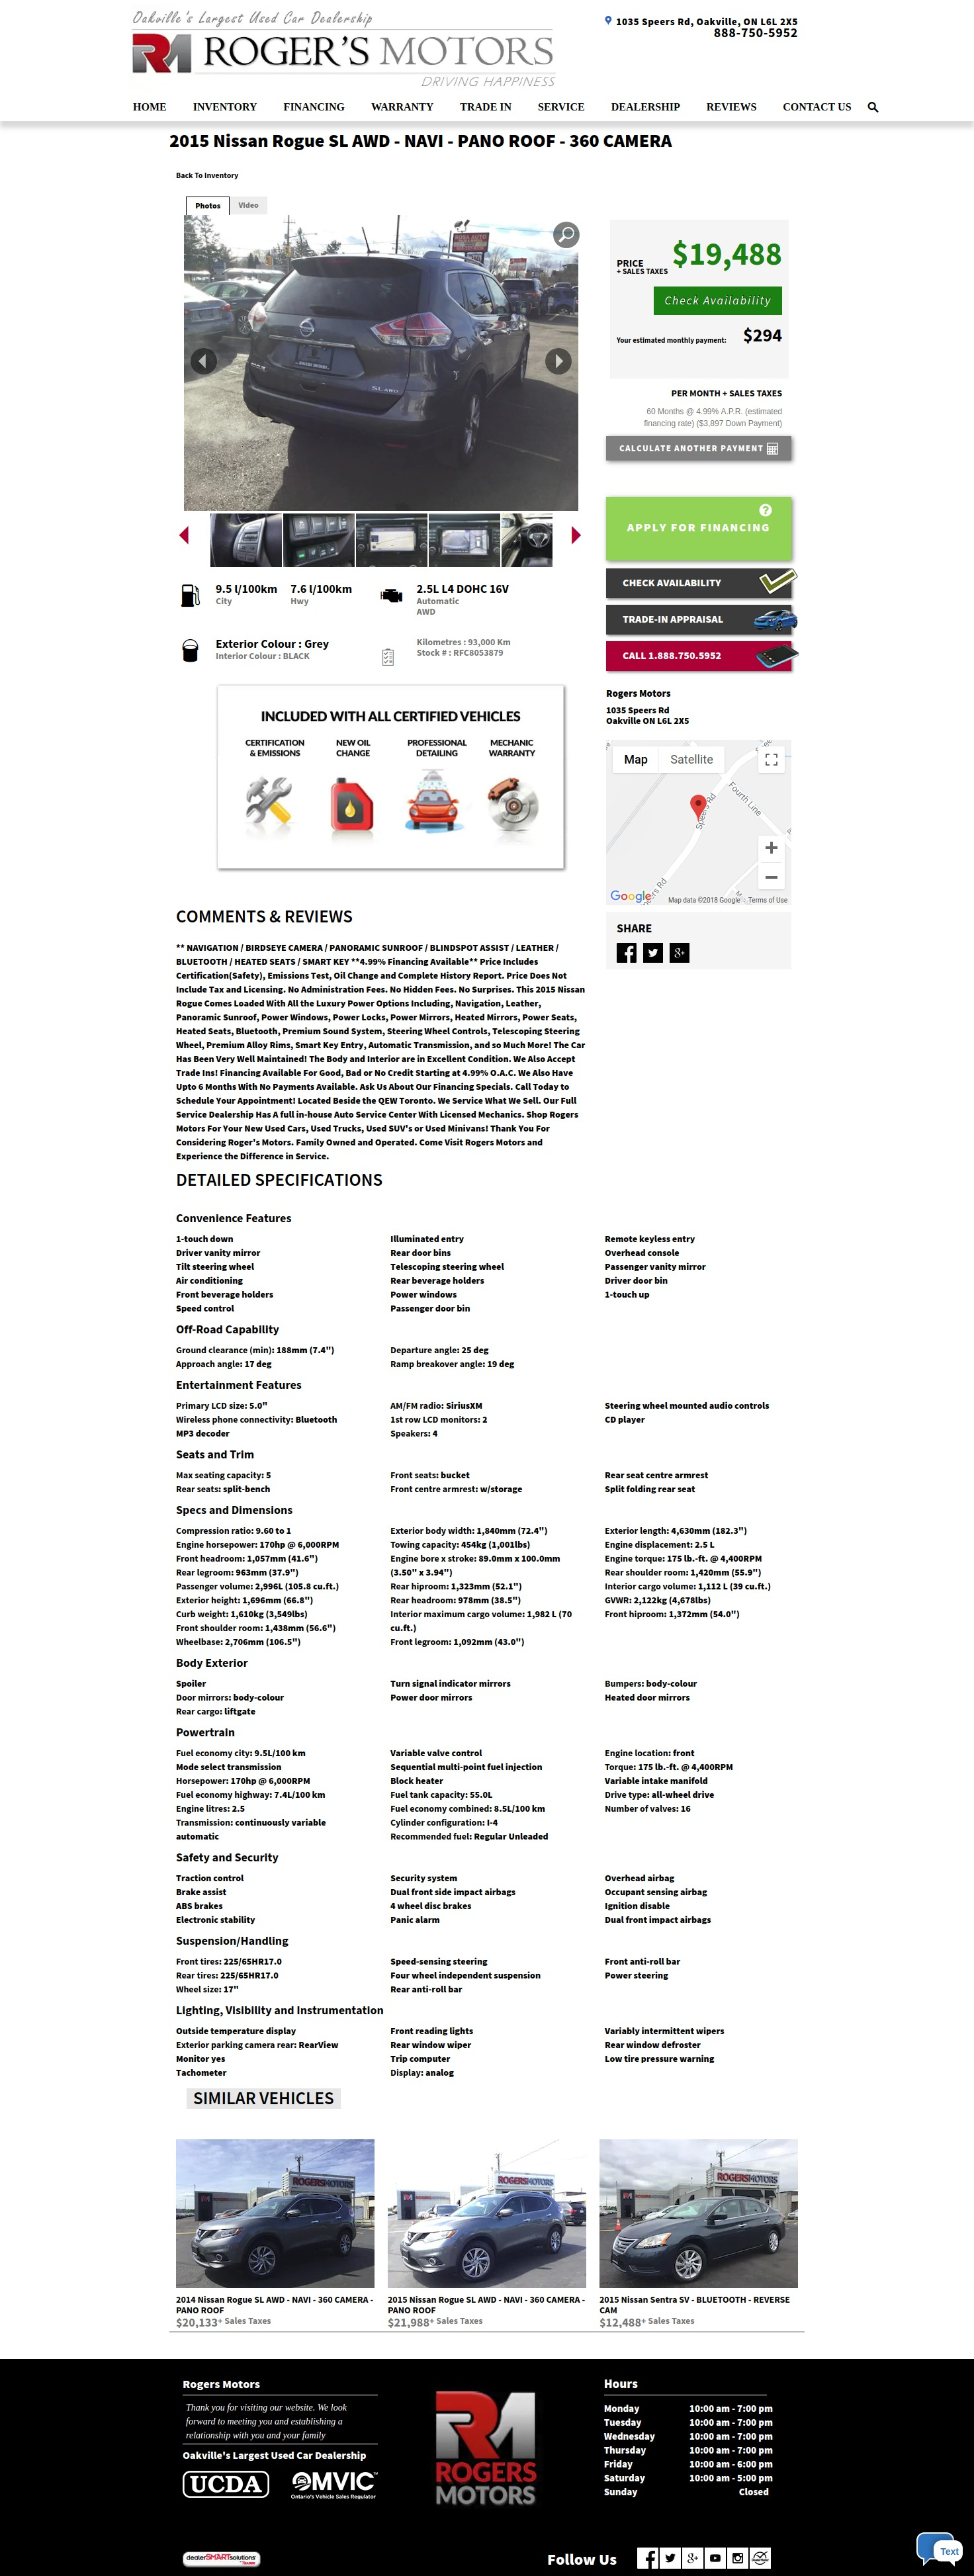car: (572, 526, 581, 545)
